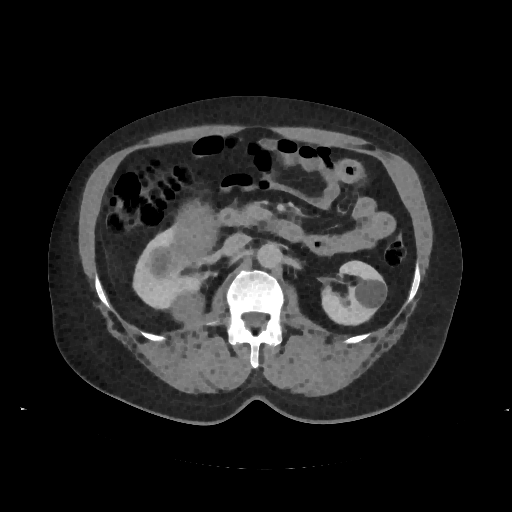Lesion: (351, 274, 389, 311)
